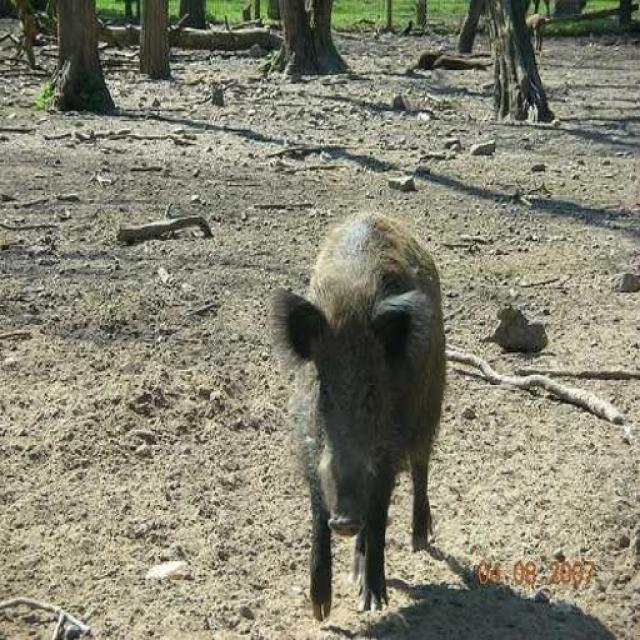pig: (204, 122, 497, 595)
